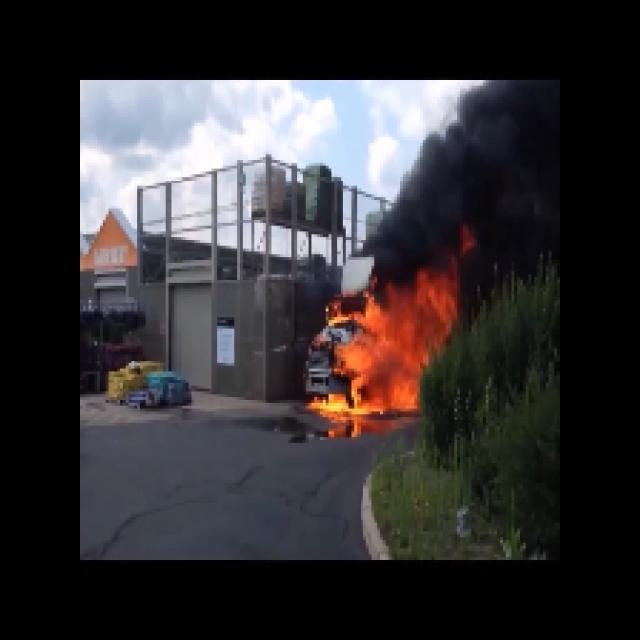fire: (341, 301, 429, 414)
smoke: (454, 101, 559, 247), (399, 188, 451, 264)
